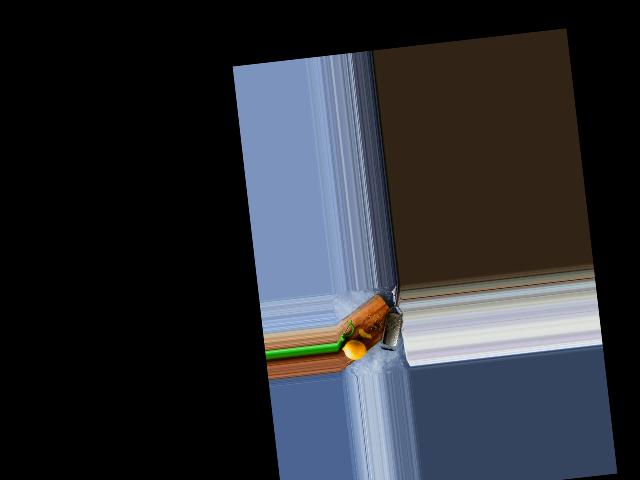lemon: (341, 338, 367, 361)
